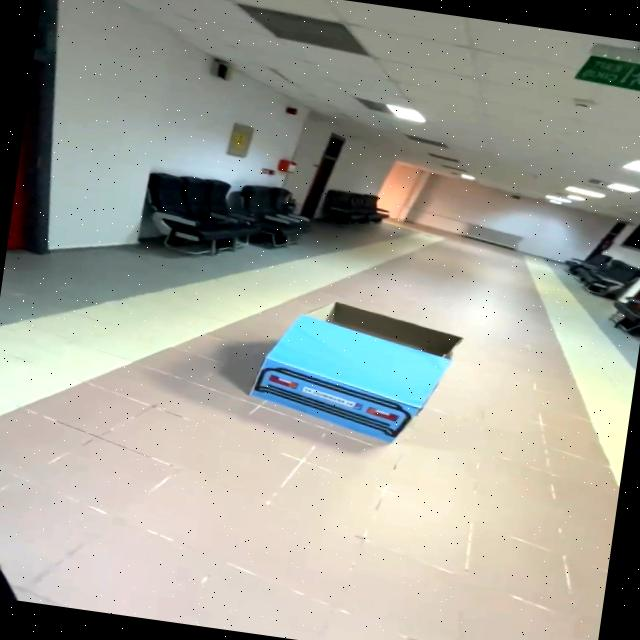blue_car: (209, 274, 498, 466)
